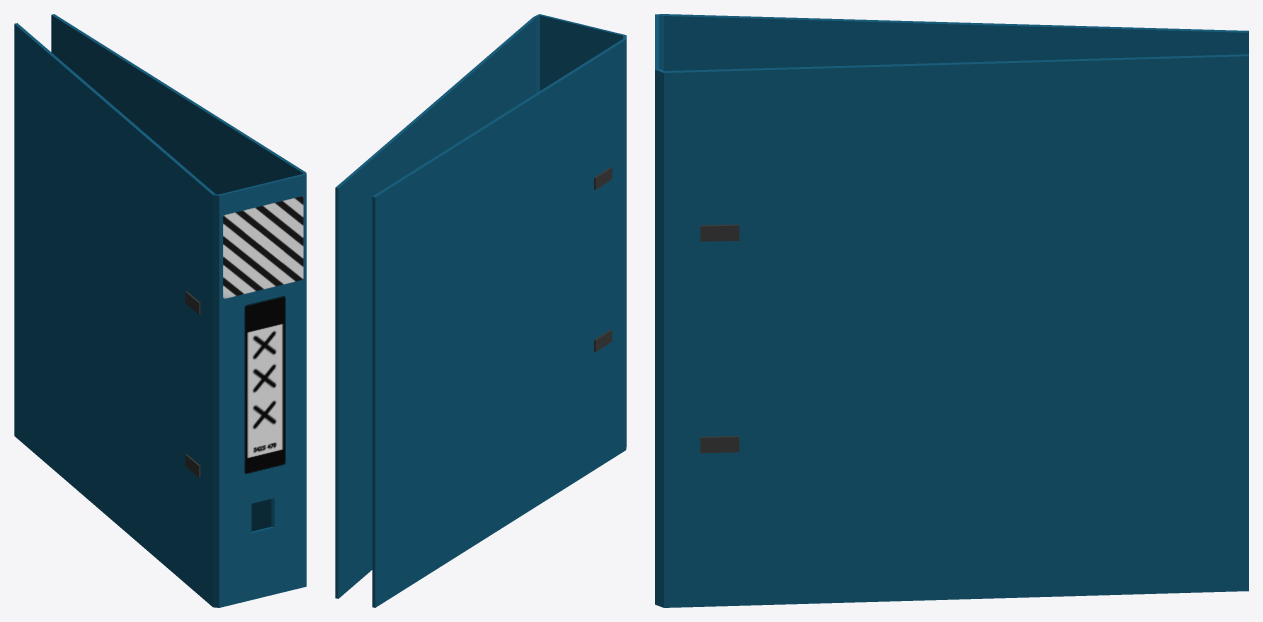
The model's file is Binder.fbx.
3 views of the same model, side by side, from view 1: azimuth 30°, elevation 25°; view 2: azimuth 150°, elevation 25°; view 3: azimuth 270°, elevation 25° (orthographic). The views are drawn at different scales.
Parts seen in each view (by area): view 1: Binder 1; view 2: Binder 1; view 3: Binder 1.
Part boxes in pixels (x1,y1,x2,y2): Binder 1: (14,14,306,607); Binder 1: (335,14,626,607); Binder 1: (655,14,1248,607).
Size of the model in its own units: 5.02 by 21.27 by 21.34.
Materials: 1 (1 with a texture image).
